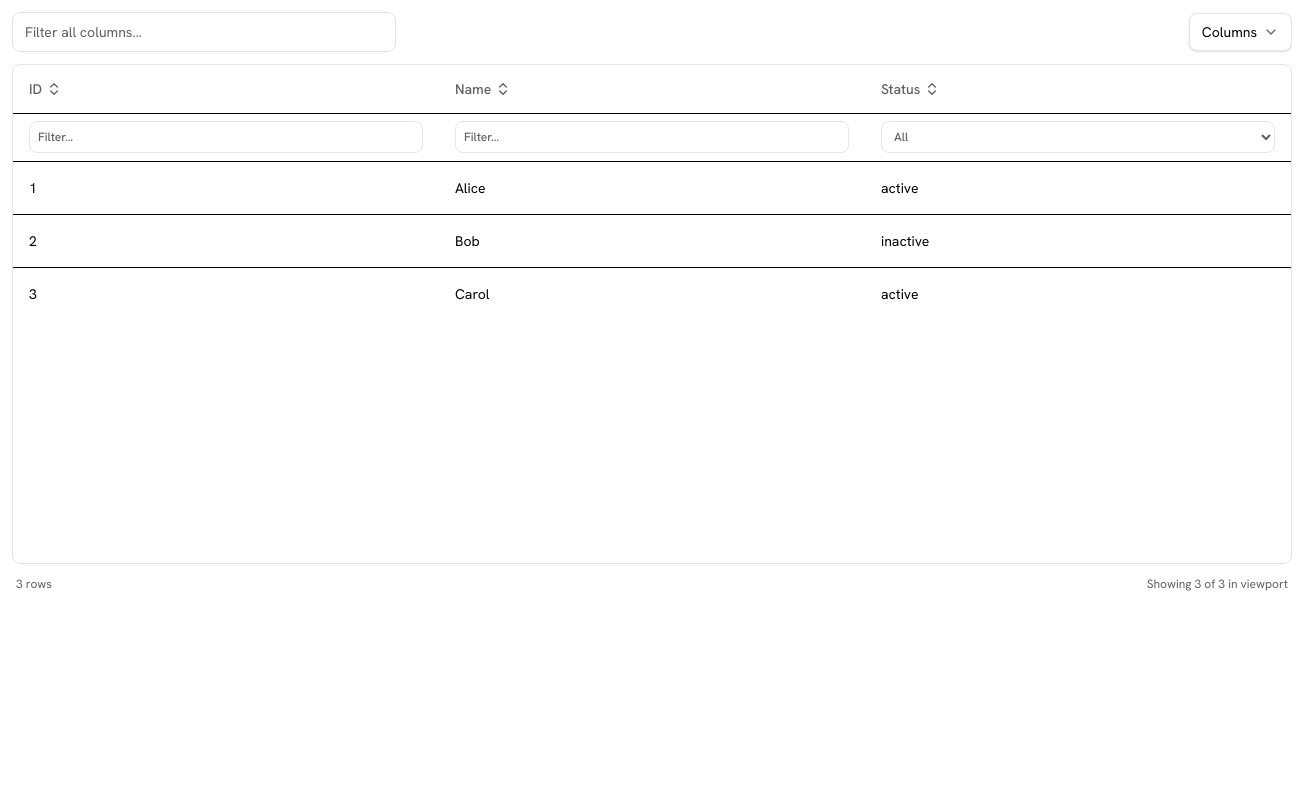
it: DataTable per-column filters (Epic 23) › typing in the Name column filter narrows the row count
expect the text "3 rows" is shown: met, box [16,576,52,592]
Type "ali" into the field named "Filter Name" at (652, 137), box [455,121,849,153]
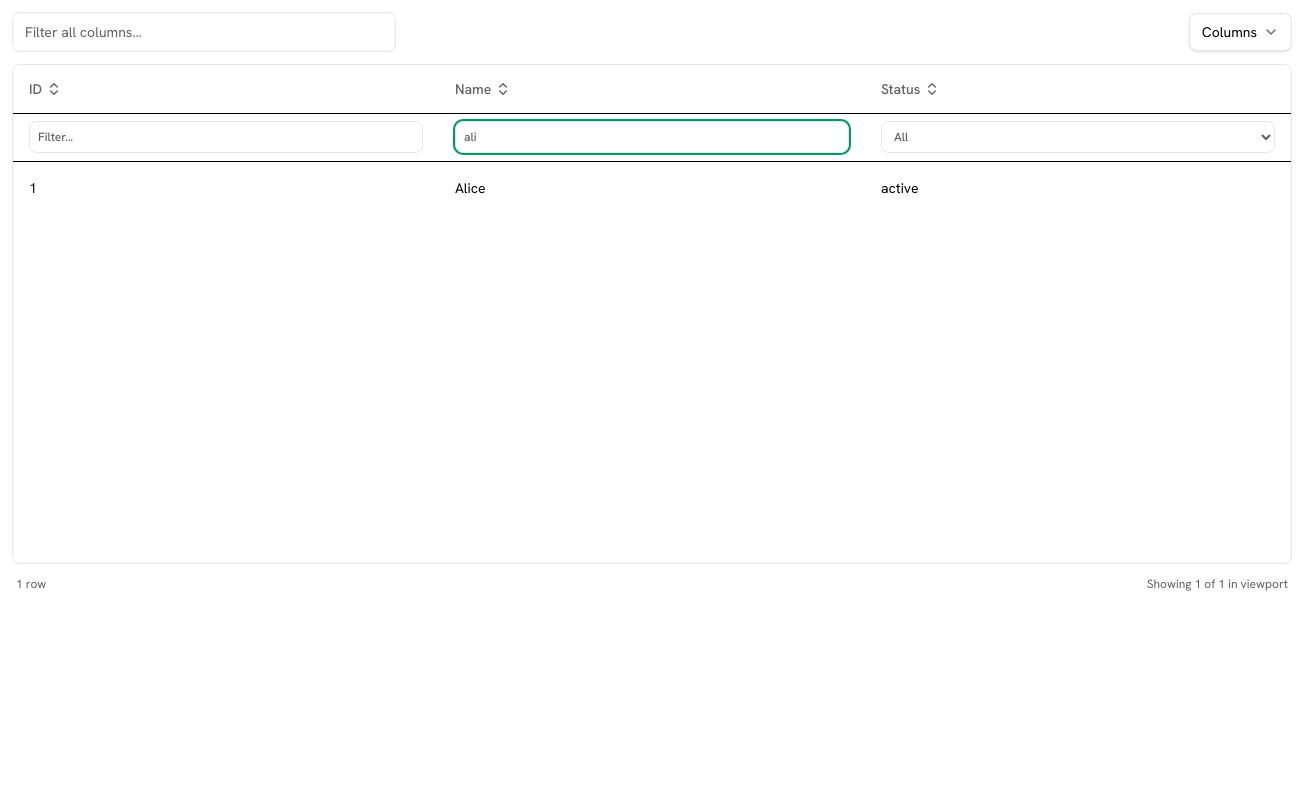
expect the text "1 row" is shown: met, box [16,576,46,592]
